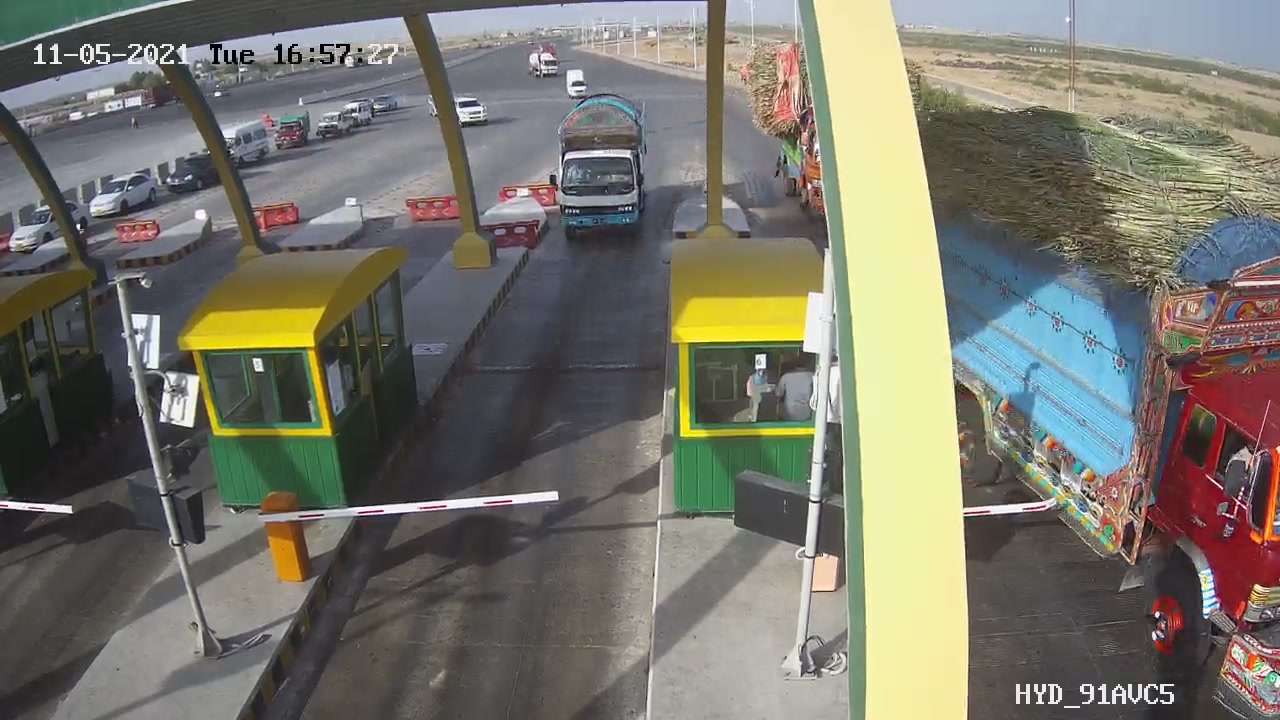F5: (542, 82, 665, 258)
